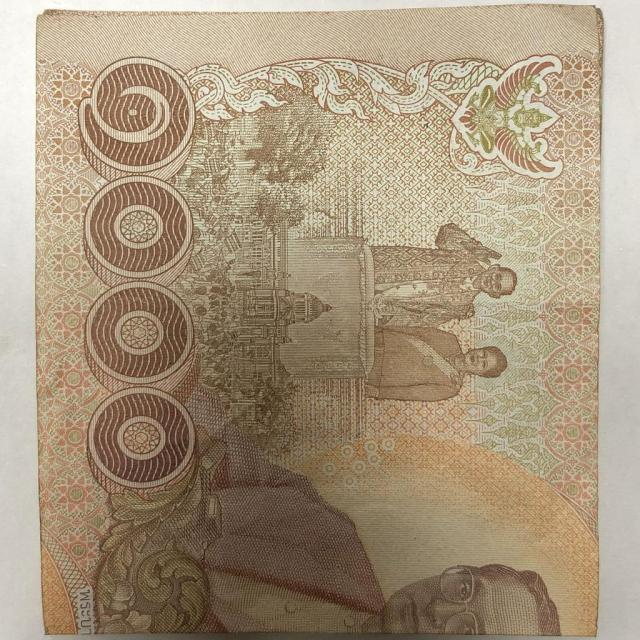THAI1000: (34, 4, 607, 639)
